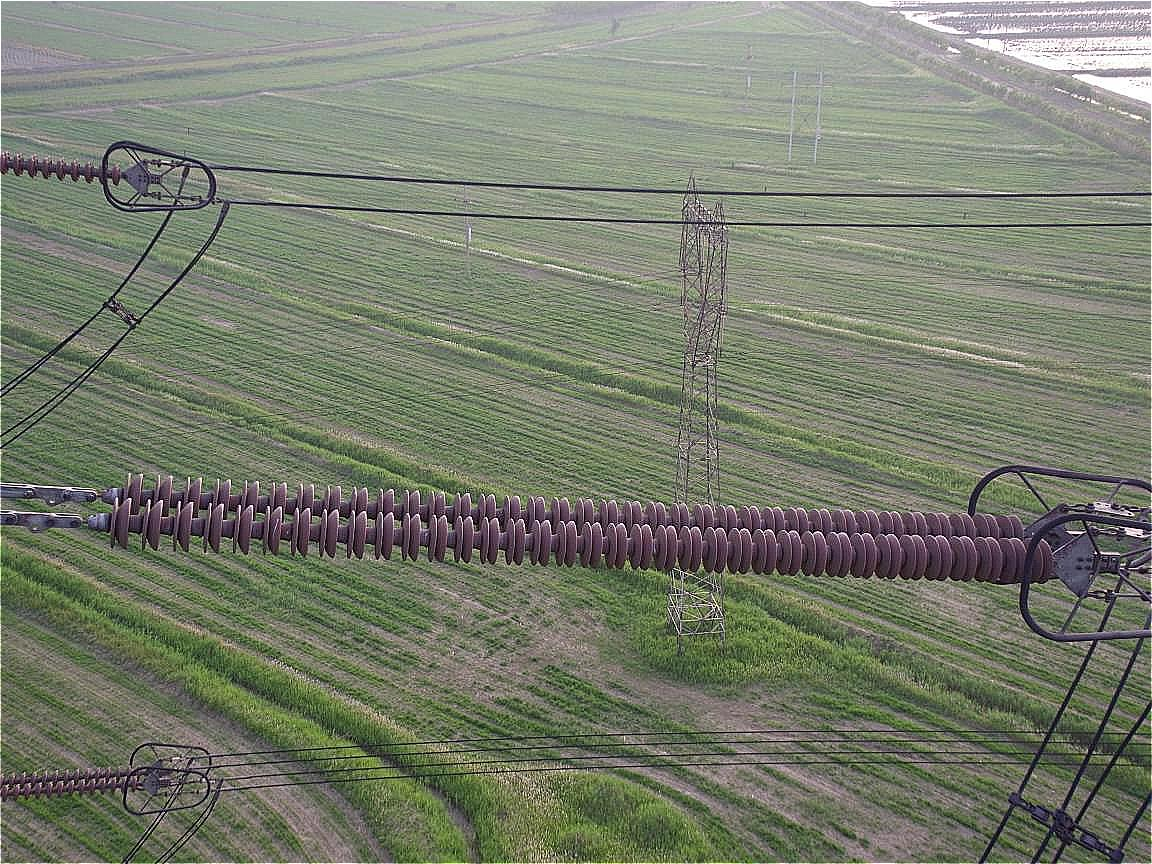insultor2: (54, 439, 1060, 620)
